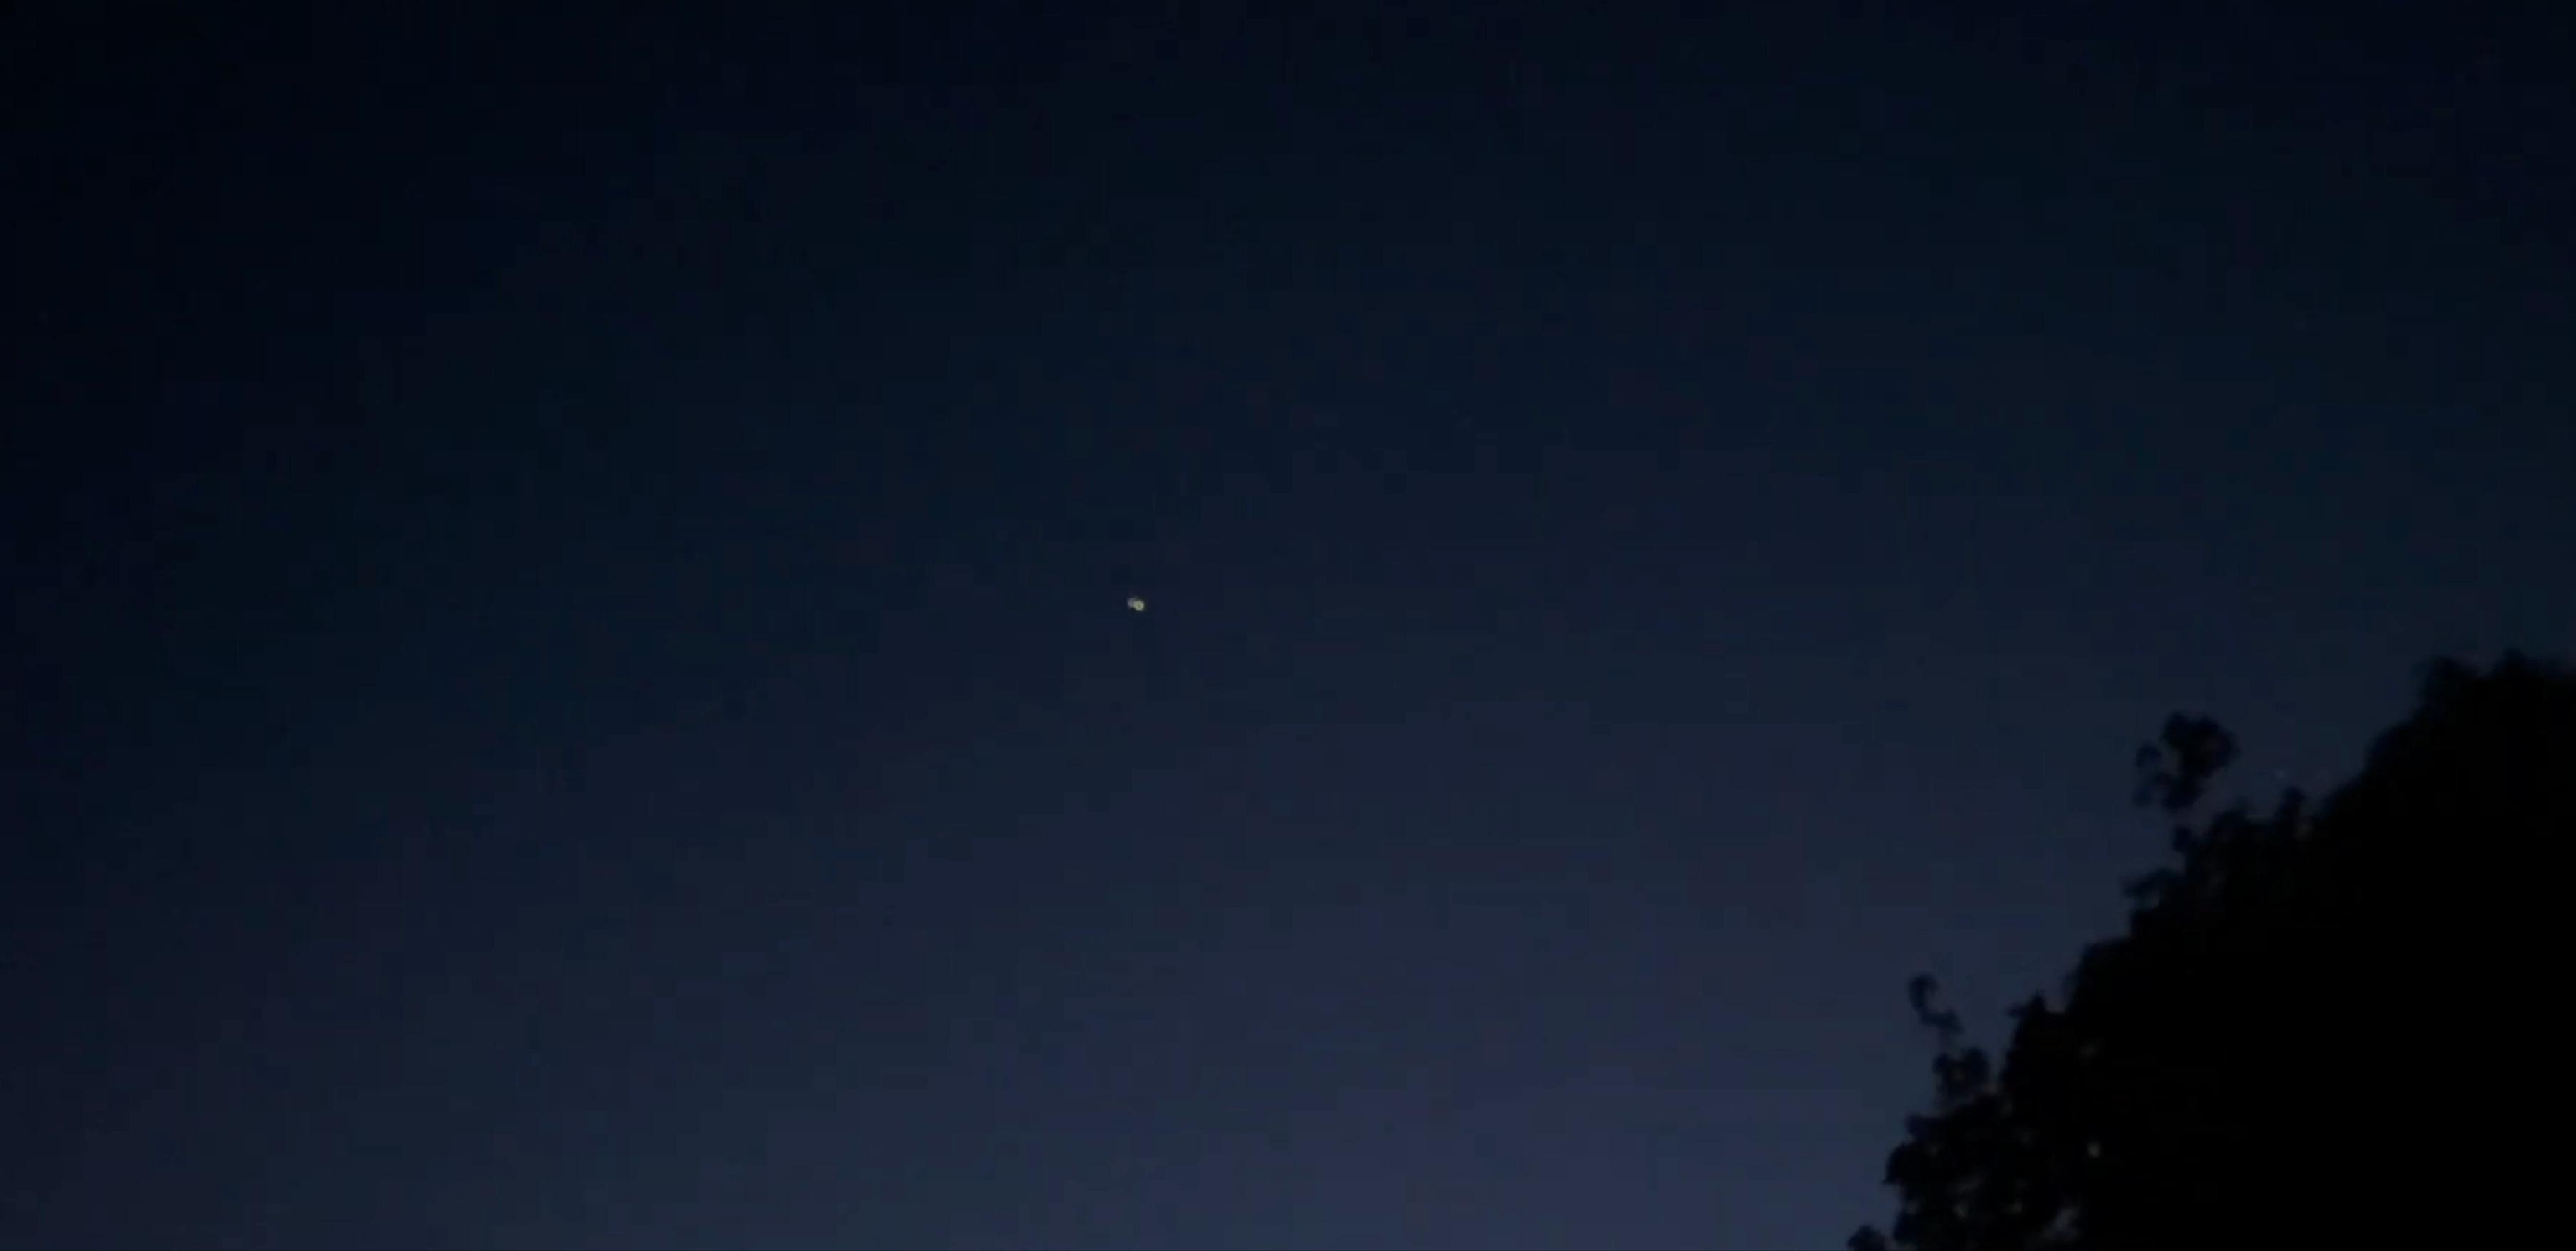Plane: (1111, 585, 1166, 635)
